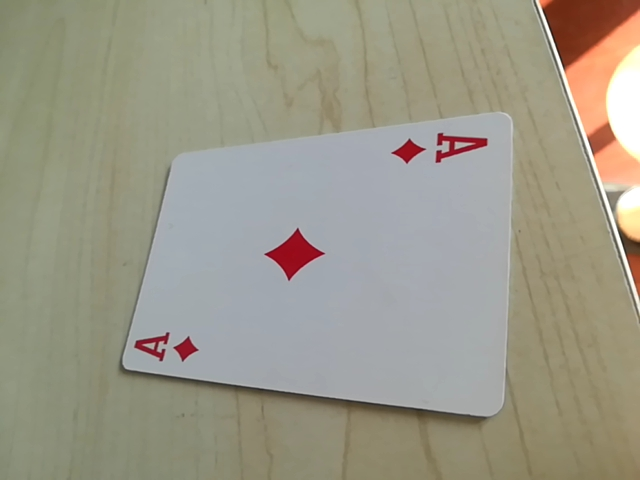fk a: (393, 127, 494, 172), (126, 320, 205, 369)
